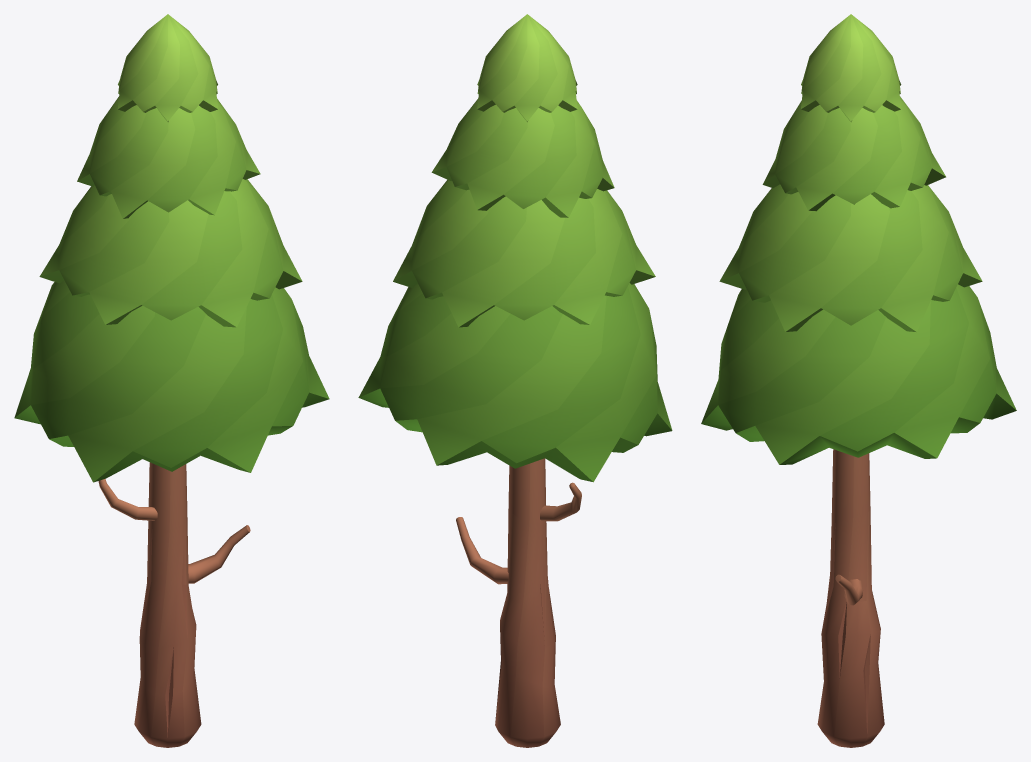
File: Tree_5_F_Color3.fbx
3 renders of one model, left to right at view 1: azimuth 30°, elevation 25°; view 2: azimuth 150°, elevation 25°; view 3: azimuth 270°, elevation 25°, orthographic.
Parts seen in each view (by area): view 1: Tree_5_F_Color3; view 2: Tree_5_F_Color3; view 3: Tree_5_F_Color3.
Part boxes in pixels (<box>): Tree_5_F_Color3: <box>14,14,329,747</box>; Tree_5_F_Color3: <box>358,14,672,747</box>; Tree_5_F_Color3: <box>701,14,1016,747</box>.
Bounding box in the file's own units: 3.69 × 10.58 × 4.14.
